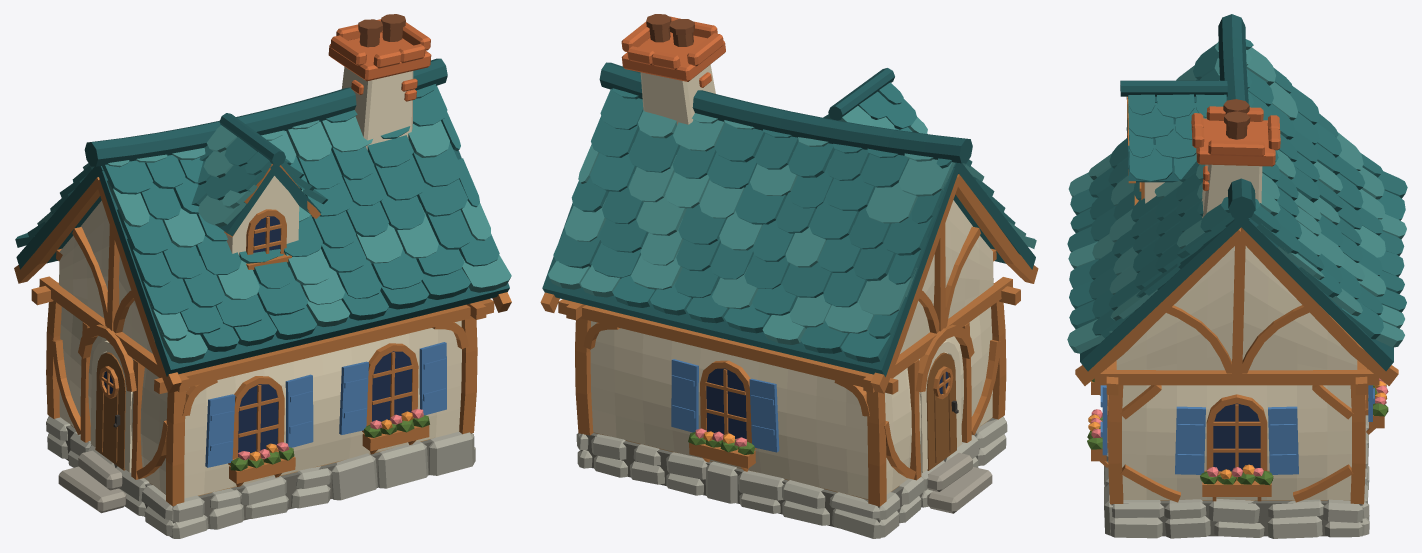
Rendered from family-home-complete.glb.
3 renders of one model, left to right at view 1: azimuth 30°, elevation 25°; view 2: azimuth 150°, elevation 25°; view 3: azimuth 270°, elevation 25°, orthographic.
Visible parts, largest first — view 1: roof_shingles, plaster_walls, roof_shingles_light, timber_frame, foundation_stones, roof_deck, roof_ridge, shutters, window_frames, window_glass, chimney_cap, barge_boards (+11 smaller); view 2: roof_shingles, plaster_walls, roof_shingles_light, timber_frame, foundation_stones, roof_ridge, roof_deck, chimney_cap, shutters, barge_boards, door_step, door_leaf (+8 smaller); view 3: roof_shingles, plaster_walls, roof_shingles_light, timber_frame, foundation_stones, roof_deck, barge_boards, roof_ridge, shutters, chimney_cap, window_frames, window_glass (+7 smaller).
Part boxes in pixels (x1,y1,x2,y2): roof_shingles: [15, 84, 499, 351]; plaster_walls: [59, 200, 461, 498]; roof_shingles_light: [37, 116, 511, 363]; timber_frame: [31, 225, 494, 506]; foundation_stones: [46, 416, 475, 538]; roof_deck: [16, 149, 509, 376]; roof_ridge: [84, 58, 447, 166]; shutters: [205, 342, 446, 467]; window_frames: [224, 164, 418, 465]; window_glass: [103, 216, 412, 456]; chimney_cap: [328, 19, 431, 81]; barge_boards: [14, 177, 511, 393]; roof_shingles: [553, 82, 1015, 363]; plaster_walls: [590, 200, 993, 498]; roof_shingles_light: [548, 106, 1036, 344]; timber_frame: [558, 224, 1020, 506]; foundation_stones: [576, 416, 1007, 538]; roof_ridge: [599, 62, 972, 163]; roof_deck: [542, 119, 1035, 376]; chimney_cap: [621, 16, 725, 81]; shutters: [671, 359, 779, 452]; barge_boards: [540, 174, 1038, 393]; door_step: [927, 452, 992, 513]; door_leaf: [926, 352, 956, 470]; roof_shingles: [1067, 39, 1407, 339]; plaster_walls: [1116, 246, 1357, 499]; roof_shingles_light: [1067, 41, 1406, 353]; timber_frame: [1094, 227, 1379, 504]; foundation_stones: [1104, 415, 1369, 538]; roof_deck: [1080, 96, 1393, 371]; barge_boards: [1075, 228, 1398, 385]; roof_ridge: [1120, 14, 1255, 220]; shutters: [1100, 385, 1374, 474]; chimney_cap: [1191, 106, 1280, 166]; window_frames: [1102, 96, 1374, 480]; window_glass: [1213, 403, 1260, 471].
Size of the model in its own units: 8.23 by 8.71 by 6.51.
